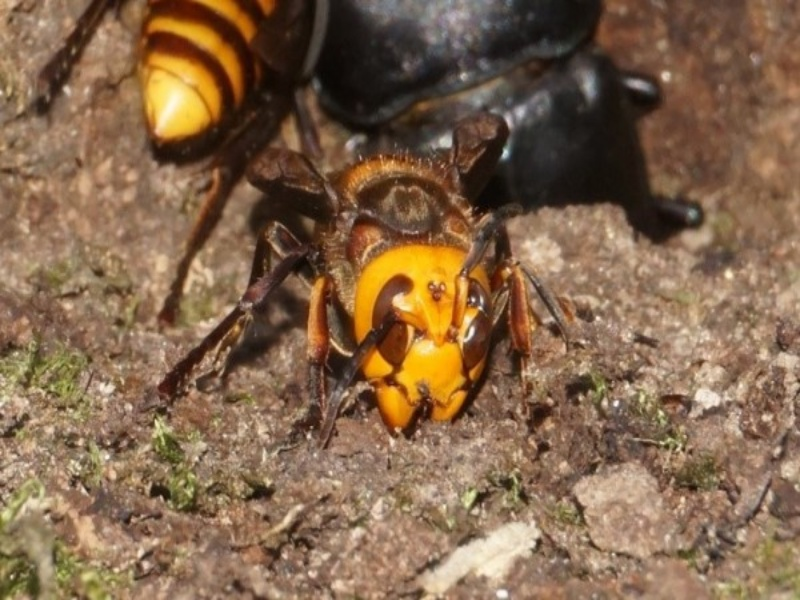asian_giant_hornet: (245, 144, 535, 441), (132, 2, 281, 152)
